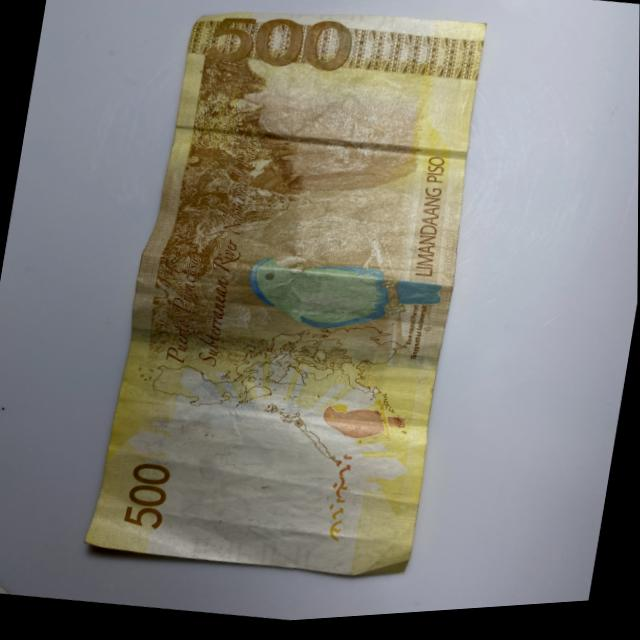500_big_parrot: (242, 245, 447, 351)
500_parrot_watermark: (318, 400, 409, 452)
value_watermark: (244, 519, 302, 547)
